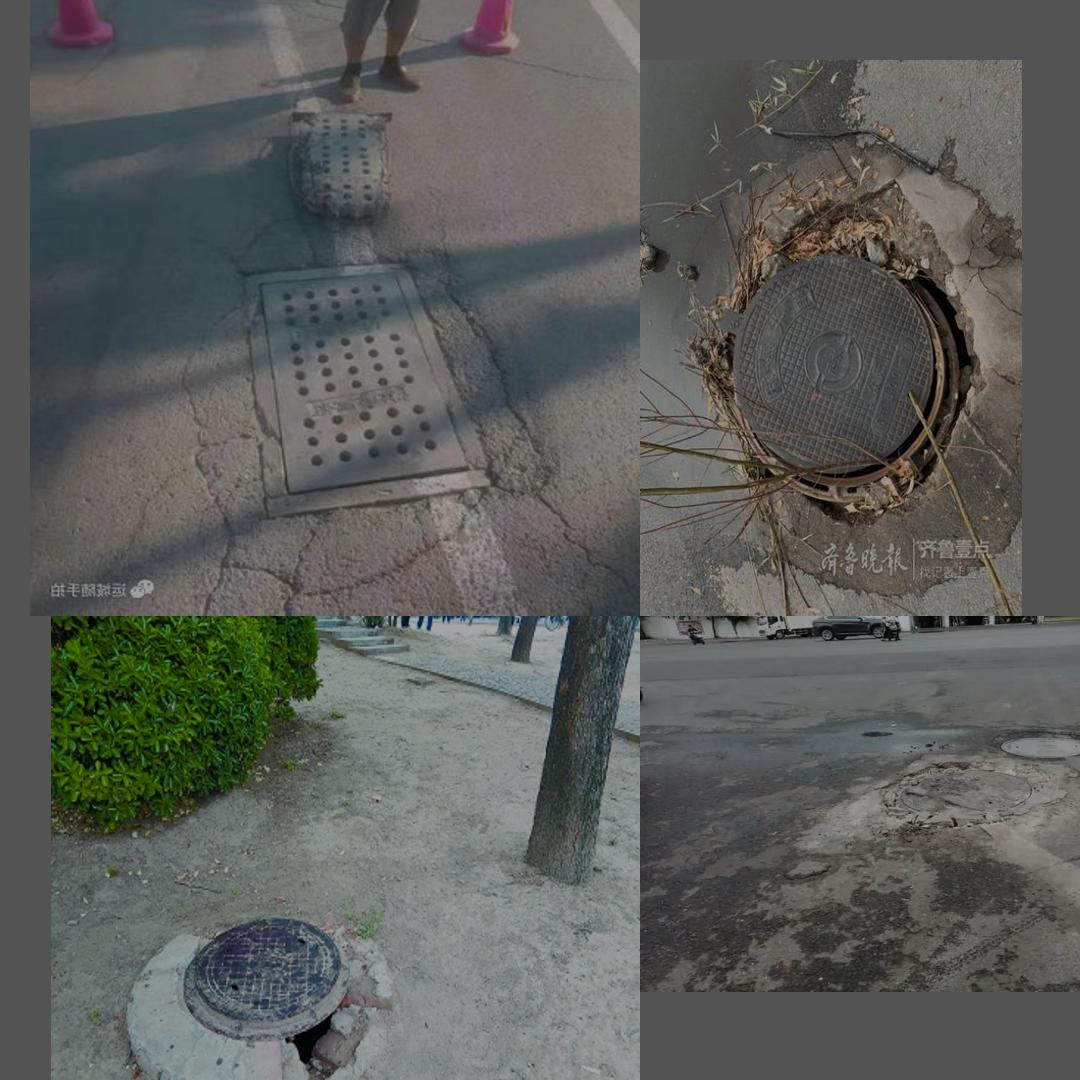circle: (678, 138, 1016, 587), (168, 231, 560, 588), (118, 910, 407, 1080), (833, 755, 1062, 860)
